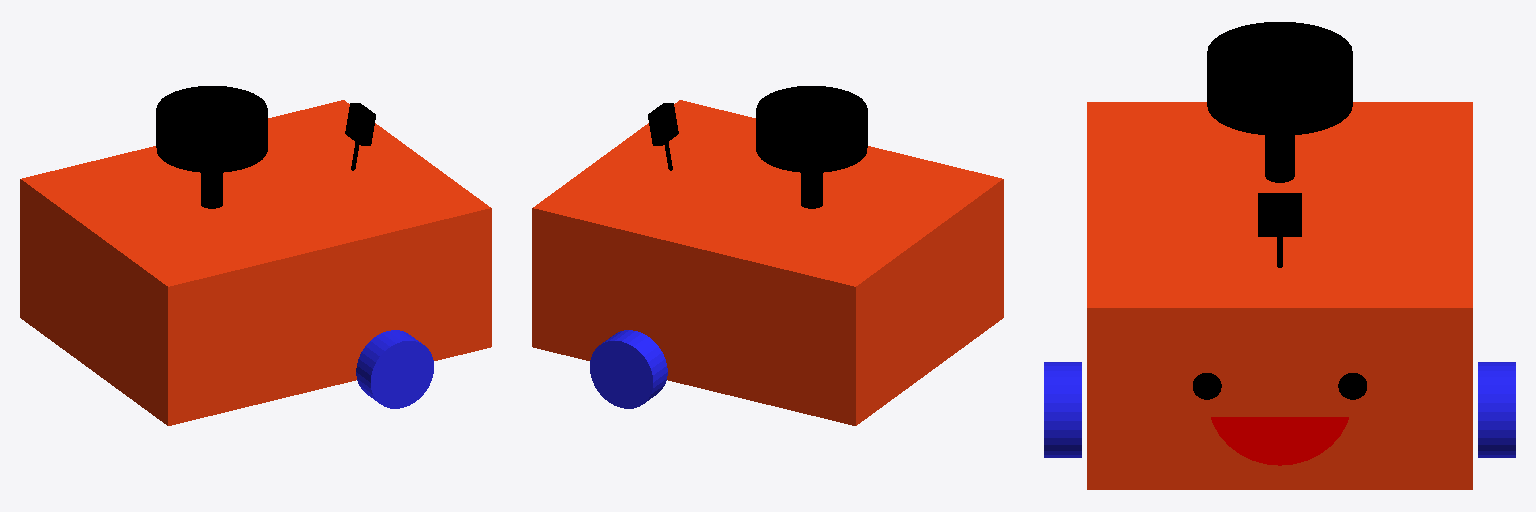
The robot description file, URDF, robot "robot":
<?xml version="1.0" ?>
<!-- This test case is a derivative of https://github.com/joshnewans/articubot_one as noted by a VSCode bug-->
<robot name="robot">
  <material name="white">
    <color rgba="1 1 1 1"/>
  </material>
  <material name="orange">
    <color rgba="1 0.3 0.1 1"/>
  </material>
  <material name="blue">
    <color rgba="0.2 0.2 1 1"/>
  </material>
  <material name="black">
    <color rgba="0 0 0 1"/>
  </material>
  <material name="red">
    <color rgba="1 0 0 1"/>
  </material>
  <!-- BASE LINK -->
  <link name="base_link">

  </link>
  <joint name="base_footprint_joint" type="fixed">
    <parent link="base_link"/>
    <child link="base_footprint"/>
    <origin rpy="0 0 0" xyz="0 0 0"/>
  </joint>
  <link name="base_footprint">
    </link>
  <!-- CHASSIS LINK -->
  <joint name="chassis_joint" type="fixed">
    <parent link="base_link"/>
    <child link="chassis"/>
    <origin xyz="-0.226 0 -0.01"/>
  </joint>
  <link name="chassis">
    <visual>
      <origin xyz="0.1675 0 0.069"/>
      <geometry>
        <box size="0.335 0.265 0.138"/>
      </geometry>
      <material name="orange"/>
    </visual>
    <collision>
      <origin xyz="0.1675 0 0.069"/>
      <geometry>
        <box size="0.335 0.265 0.138"/>
      </geometry>
    </collision>
    <inertial>
      <origin rpy="0 0 0" xyz="0.1675 0 0.069"/>
      <mass value="0.5"/>
      <inertia ixx="0.003719541666666667" ixy="0.0" ixz="0.0" iyy="0.005469541666666668" iyz="0.0" izz="0.007602083333333334"/>
    </inertial>
  </link>
  <!-- LEFT WHEEL LINK -->
  <joint name="left_wheel_joint" type="continuous">
    <parent link="base_link"/>
    <child link="left_wheel"/>
    <origin rpy="-1.5707963267948966 0 0" xyz="0 0.1485 0"/>
    <axis xyz="0 0 1"/>
  </joint>
  <link name="left_wheel">
    <visual>
      <geometry>
        <cylinder length="0.026" radius="0.033"/>
      </geometry>
      <material name="blue"/>
    </visual>
    <collision>
      <geometry>
        <sphere radius="0.033"/>
      </geometry>
    </collision>
    <inertial>
      <origin rpy="0 0 0" xyz="0 0 0"/>
      <mass value="0.05"/>
      <inertia ixx="1.642916666666667e-05" ixy="0.0" ixz="0.0" iyy="1.642916666666667e-05" iyz="0.0" izz="2.7225000000000004e-05"/>
    </inertial>
  </link>
  <joint name="right_wheel_joint" type="continuous">
    <parent link="base_link"/>
    <child link="right_wheel"/>
    <origin rpy="1.5707963267948966 0 0" xyz="0 -0.1485 0"/>
    <axis xyz="0 0 -1"/>
  </joint>
  <link name="right_wheel">
    <visual>
      <geometry>
        <cylinder length="0.026" radius="0.033"/>
      </geometry>
      <material name="blue"/>
    </visual>
    <collision>
      <geometry>
        <sphere radius="0.033"/>
      </geometry>
    </collision>
    <inertial>
      <origin rpy="0 0 0" xyz="0 0 0"/>
      <mass value="0.05"/>
      <inertia ixx="1.642916666666667e-05" ixy="0.0" ixz="0.0" iyy="1.642916666666667e-05" iyz="0.0" izz="2.7225000000000004e-05"/>
    </inertial>
  </link>
  <!-- CASTER WHEEL LINK -->
  <joint name="caster_wheel_joint" type="fixed">
    <parent link="chassis"/>
    <child link="caster_wheel"/>
    <origin xyz="0.075 0 -0.013"/>
  </joint>
  <link name="caster_wheel">
    <visual>
      <geometry>
        <sphere radius="0.01"/>
      </geometry>
      <material name="white"/>
    </visual>
    <collision>
      <geometry>
        <sphere radius="0.01"/>
      </geometry>
    </collision>
    <inertial>
      <origin rpy="0 0 0" xyz="0 0 0"/>
      <mass value="0.01"/>
      <inertia ixx="4.0000000000000003e-07" ixy="0.0" ixz="0.0" iyy="4.0000000000000003e-07" iyz="0.0" izz="4.0000000000000003e-07"/>
    </inertial>
  </link>
  <joint name="laser_joint" type="fixed">
    <parent link="chassis"/>
    <child link="laser_frame"/>
    <origin rpy="0 0 0" xyz="0.122 0 0.212"/>
  </joint>
  <link name="laser_frame">
    <visual>
      <geometry>
        <cylinder length="0.04" radius="0.05"/>
      </geometry>
      <material name="black"/>
    </visual>
    <visual>
      <origin xyz="0 0 -0.05"/>
      <geometry>
        <cylinder length="0.1" radius="0.01"/>
      </geometry>
      <material name="black"/>
    </visual>
    <collision>
      <geometry>
        <cylinder length="0.04" radius="0.05"/>
      </geometry>
    </collision>
    <inertial>
      <origin rpy="0 0 0" xyz="0 0 0"/>
      <mass value="0.1"/>
      <inertia ixx="7.583333333333335e-05" ixy="0.0" ixz="0.0" iyy="7.583333333333335e-05" iyz="0.0" izz="0.00012500000000000003"/>
    </inertial>
  </link>
  <joint name="camera_joint" type="fixed">
    <parent link="chassis"/>
    <child link="camera_link"/>
    <origin rpy="0 0.18 0" xyz="0.276 0 0.181"/>
  </joint>
  <link name="camera_link">
    <visual>
      <geometry>
        <box size="0.010 0.03 0.03"/>
      </geometry>
      <material name="black"/>
    </visual>
    <visual>
      <origin xyz="0 0 -0.05"/>
      <geometry>
        <cylinder length="0.1" radius="0.002"/>
      </geometry>
      <material name="black"/>
    </visual>
  </link>
  <joint name="camera_optical_joint" type="fixed">
    <parent link="camera_link"/>
    <child link="camera_link_optical"/>
    <origin rpy="-1.5707963267948966 0 -1.5707963267948966" xyz="0 0 0"/>
  </joint>
  <link name="camera_link_optical"/>
  <!-- <xacro:include filename="depth_camera.xacro" /> -->
  <joint name="face_joint" type="fixed">
    <parent link="chassis"/>
    <child link="face_link"/>
    <origin rpy="0 0 0" xyz="0.335 0 0.069"/>
  </joint>
  <link name="face_link">
    <visual>
      <origin rpy="0 1.5707963267948966 0" xyz="0 0.05 0.01"/>
      <geometry>
        <cylinder length="0.002" radius="0.01"/>
      </geometry>
      <material name="black"/>
    </visual>
    <visual>
      <origin rpy="0 1.5707963267948966 0" xyz="0 -0.05 0.01"/>
      <geometry>
        <cylinder length="0.002" radius="0.01"/>
      </geometry>
      <material name="black"/>
    </visual>
    <visual>
      <origin rpy="0 1.5 0" xyz="-0.011 0 -0.00"/>
      <geometry>
        <cylinder length="0.02" radius="0.05"/>
      </geometry>
      <material name="red"/>
    </visual>
  </link>
</robot>

--- What the picture shows (computed from the rendered views, not written in the file) ---
The picture shows the robot from 3 angles, left to right: view 1: azimuth 30°, elevation 25°; view 2: azimuth 150°, elevation 25°; view 3: azimuth 270°, elevation 25°; orthographic projection.
Robot: robot — 10 links, 9 joints (2 continuous, 7 fixed); root link base_link; default pose: every joint at zero.
Links seen in each view (by area): view 1: chassis, laser_frame, right_wheel, camera_link; view 2: chassis, laser_frame, left_wheel, camera_link; view 3: chassis, laser_frame, face_link, left_wheel, right_wheel, camera_link.
Link boxes in pixels (<box>): chassis: <box>20,100,491,425</box>; laser_frame: <box>156,86,267,208</box>; right_wheel: <box>356,330,433,408</box>; camera_link: <box>345,103,375,170</box>; chassis: <box>532,100,1003,425</box>; laser_frame: <box>756,86,867,208</box>; left_wheel: <box>590,330,667,408</box>; camera_link: <box>648,103,678,170</box>; chassis: <box>1087,102,1472,489</box>; laser_frame: <box>1207,22,1352,182</box>; face_link: <box>1193,373,1366,465</box>; left_wheel: <box>1478,362,1515,457</box>; right_wheel: <box>1044,362,1081,457</box>; camera_link: <box>1258,193,1301,267</box>.
Bounding box of the posed robot: 0.3375 × 0.323 × 0.255 m (x, y, z).
Geometry: primitives only (box / cylinder / sphere), no mesh files.
